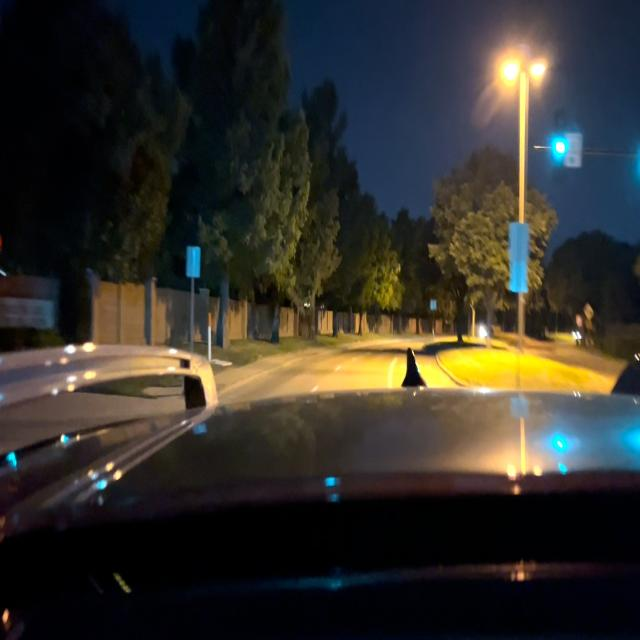back-of-sign: (511, 224, 528, 291), (186, 246, 202, 279)
